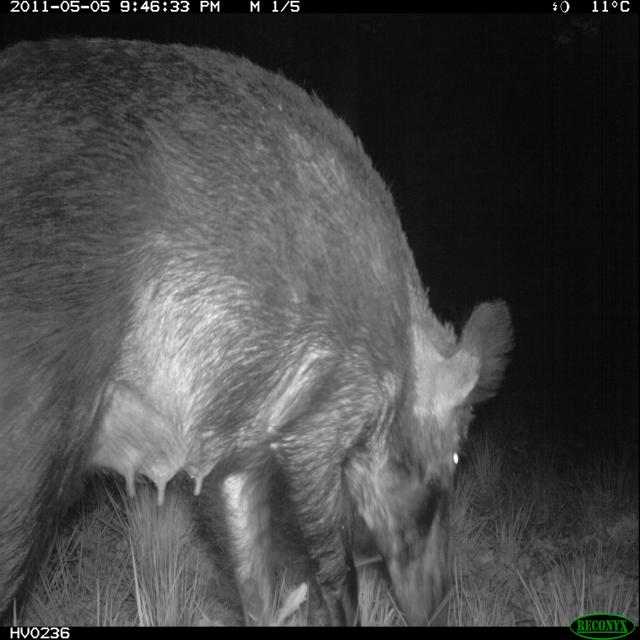boar: (0, 17, 574, 640)
